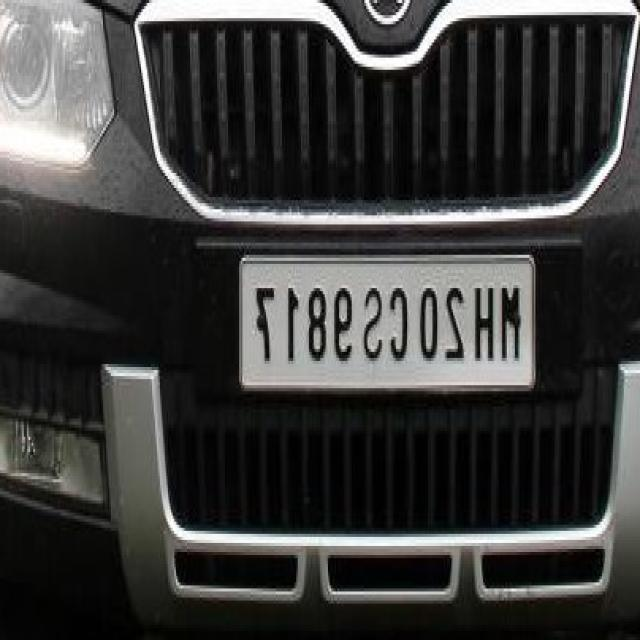number-plate: (239, 260, 532, 386)
